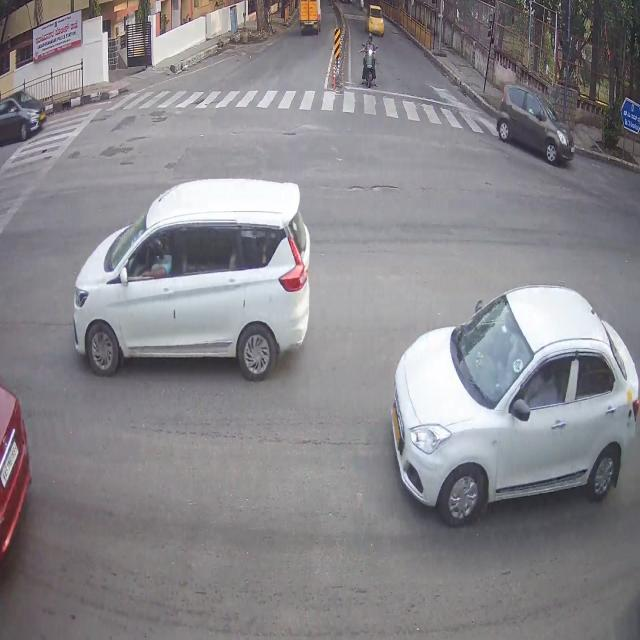Car: (78, 187, 324, 366), (396, 323, 633, 499), (0, 370, 34, 550), (503, 78, 574, 162), (362, 4, 387, 40)
LCV: (297, 0, 325, 31)
Two-wheelers: (360, 44, 383, 94)
